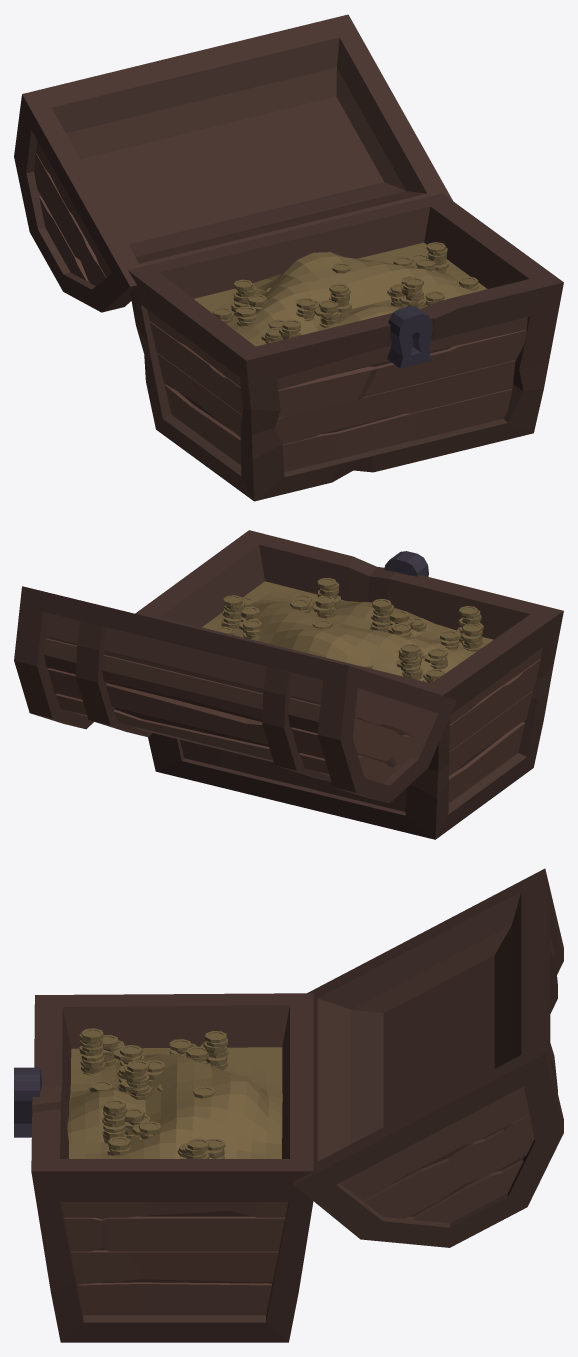
File: dn_chest_gold.glb
3 views of the same model, one above another, from view 1: azimuth 30°, elevation 25°; view 2: azimuth 150°, elevation 25°; view 3: azimuth 270°, elevation 25° (orthographic). The views are drawn at different scales.
Parts seen in each view (by area): view 1: dn_chest_gold2; view 2: dn_chest_gold2; view 3: dn_chest_gold2.
Part boxes in pixels (box(x1,y1,x2,y2)): dn_chest_gold2: box(14, 14, 563, 501); dn_chest_gold2: box(14, 530, 563, 839); dn_chest_gold2: box(14, 868, 563, 1342).
Bounding box in the file's own units: 1.18 × 0.9 × 1.48.
